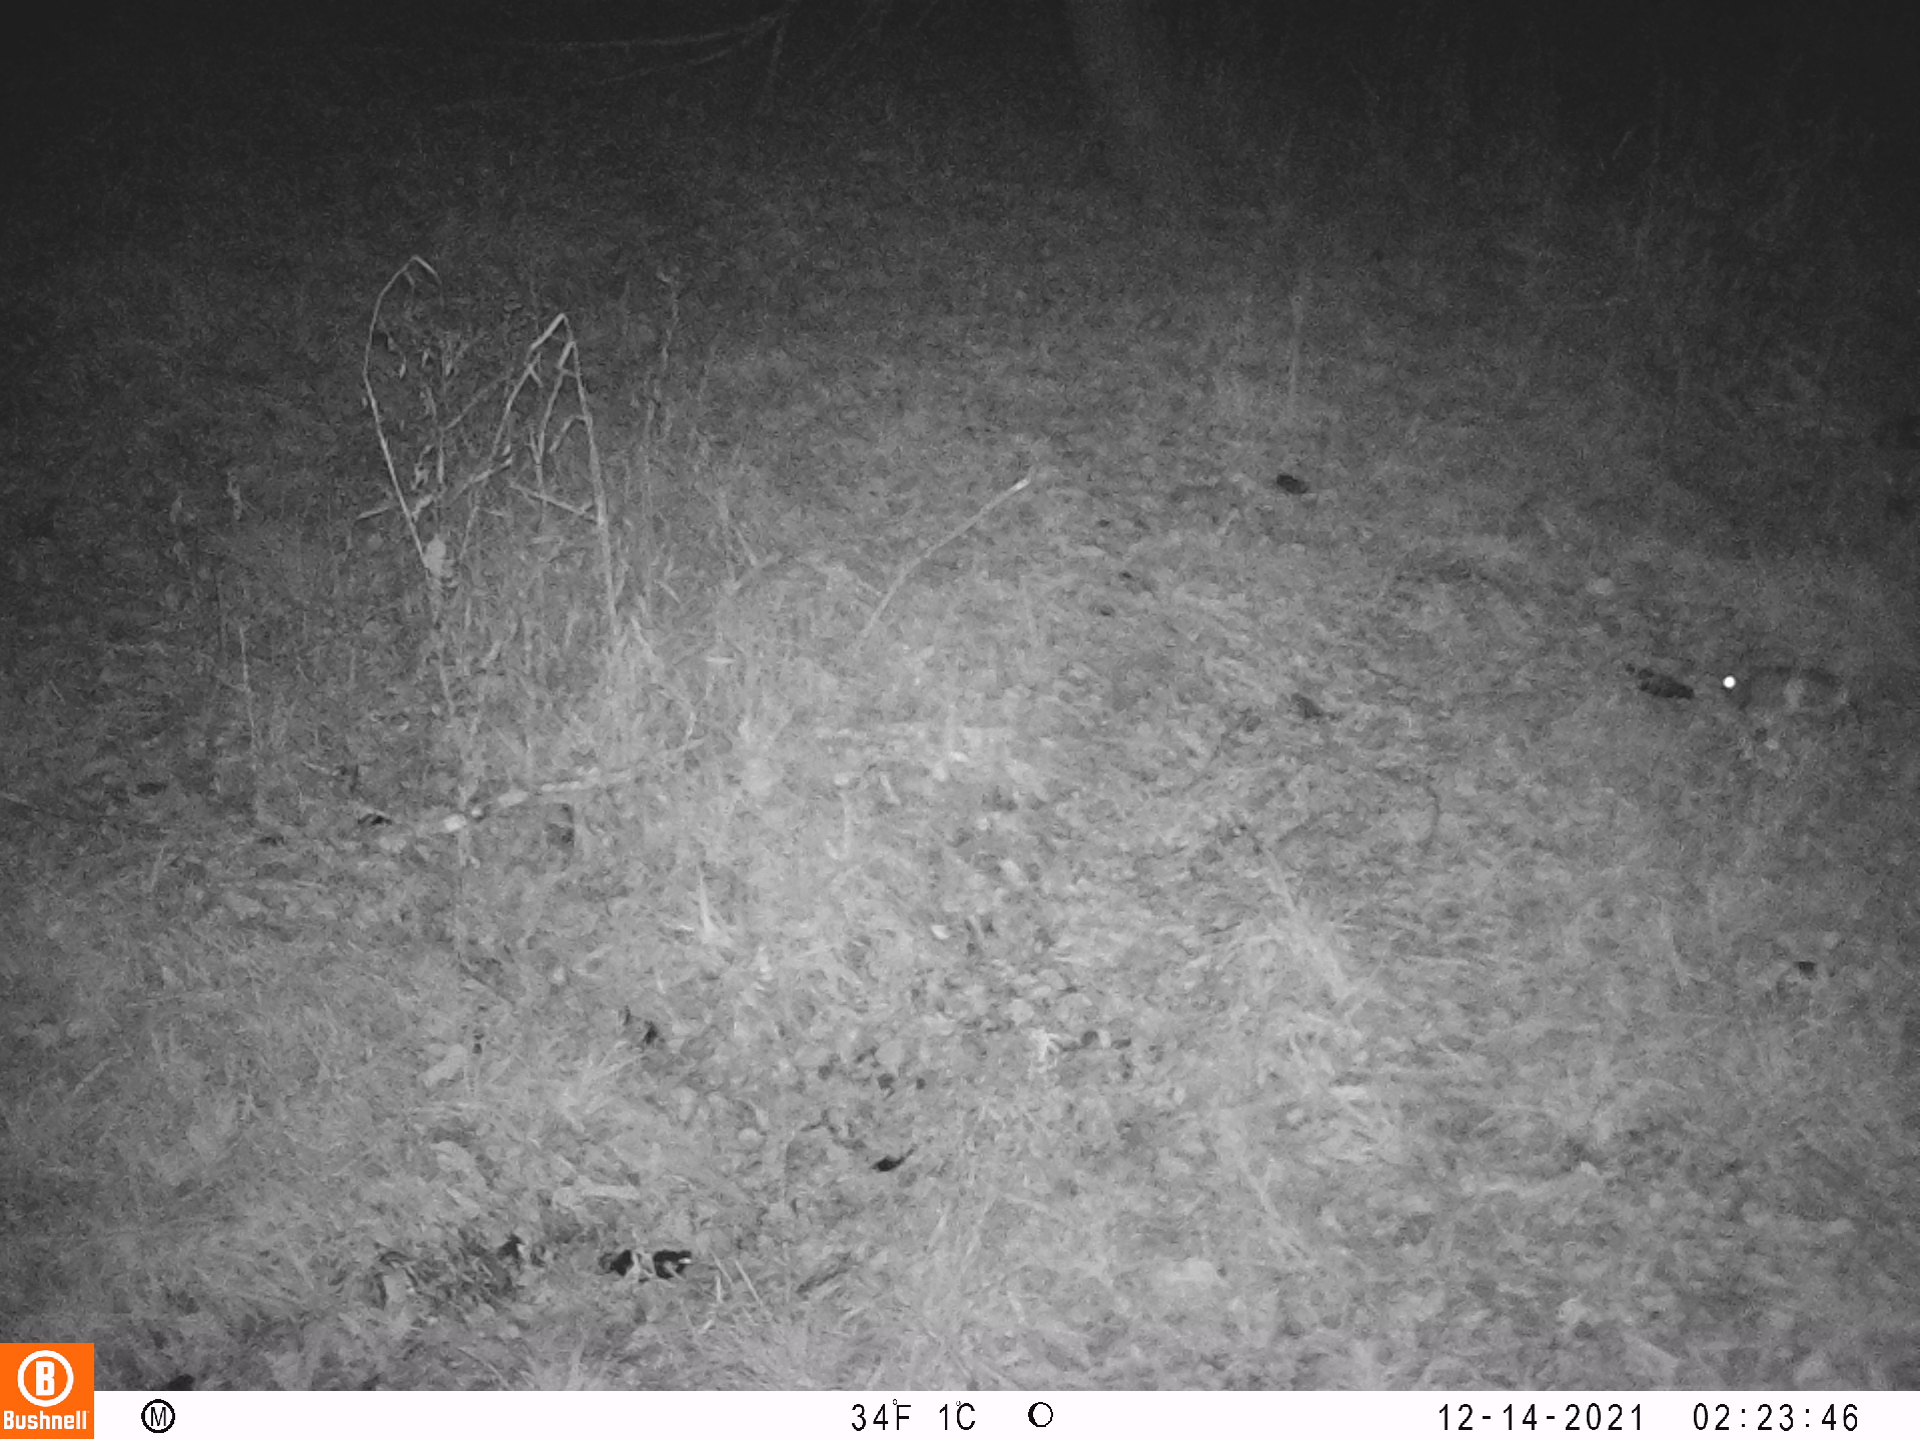Rabbit: (1717, 644, 1849, 731)
